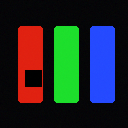1 square: (25, 70, 41, 86)
